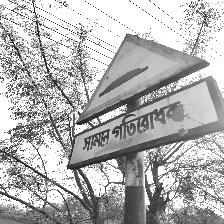Speed-breaker: (69, 33, 223, 170)
